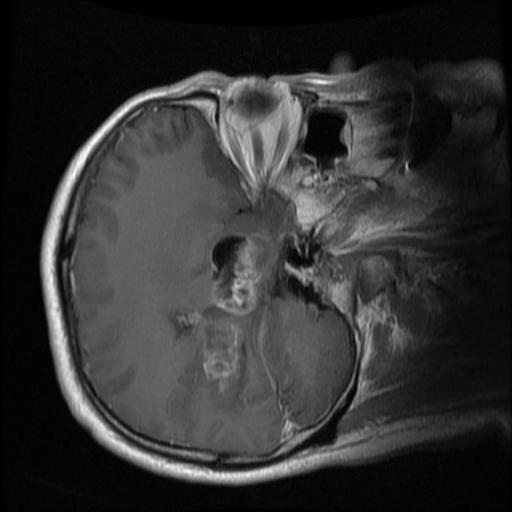glioma: (167, 231, 278, 411)
